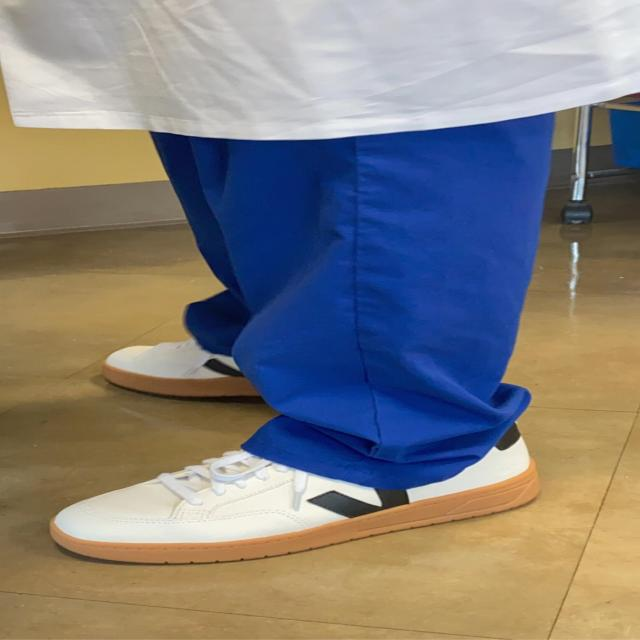shoe: (41, 407, 547, 564), (101, 332, 272, 402)
